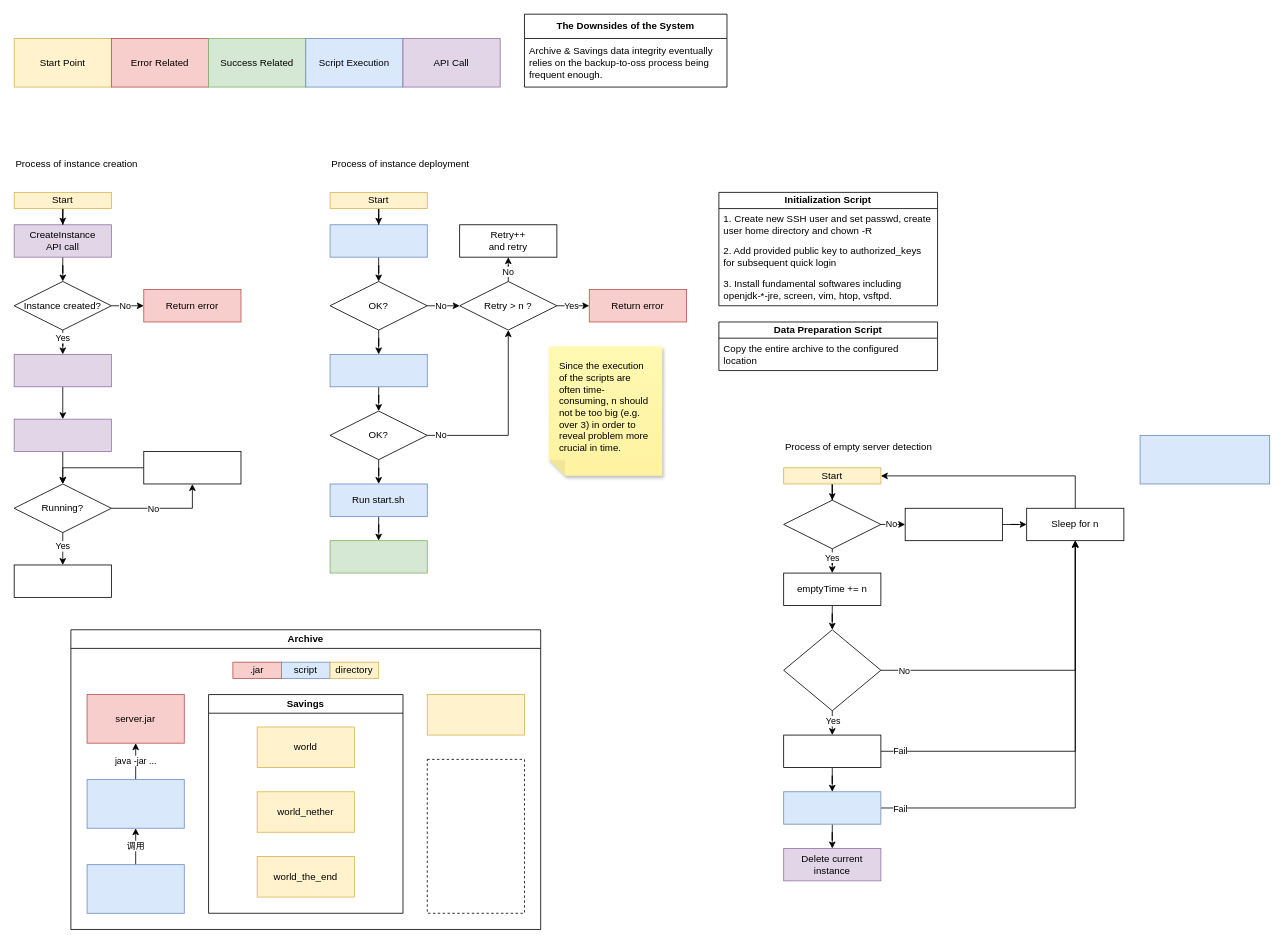
The diagram is 1284 pixels wide and 944 high, and some of its shapes have lost their labels. The centre of each missing label's shape, as x and y in pixels:
"...Other" goes at (x=475, y=836).
"Allocate public IPv4 address for inst." goes at (x=62, y=370).
"Automatic backup savings interval=10min" goes at (x=1204, y=459).
"boot.sh" goes at (x=135, y=803).
"Copy entire archive to OSS" goes at (x=832, y=807).
"Deploy" goes at (x=62, y=580).
"emptyTime = 0" goes at (x=953, y=524).
"emptyTime > maxEmptyTime?" goes at (x=832, y=670).
"Player count == 0?" goes at (x=832, y=524).
"plugins" goes at (x=475, y=714).
"Return OK" goes at (x=378, y=556).
"Run data preparation scripts" goes at (x=378, y=370).
"Run initialization scripts" goes at (x=378, y=240).
"Save all data" goes at (x=832, y=750).
"Sleep for 5 seconds" goes at (x=192, y=467).
"Start the instance" goes at (x=62, y=435).
"start.sh" goes at (x=135, y=888).
